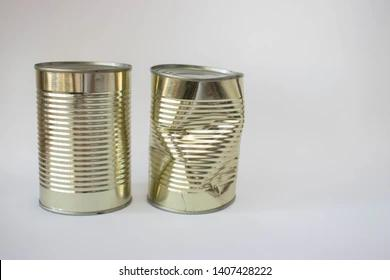metal: (35, 62, 130, 214), (148, 64, 244, 212)
